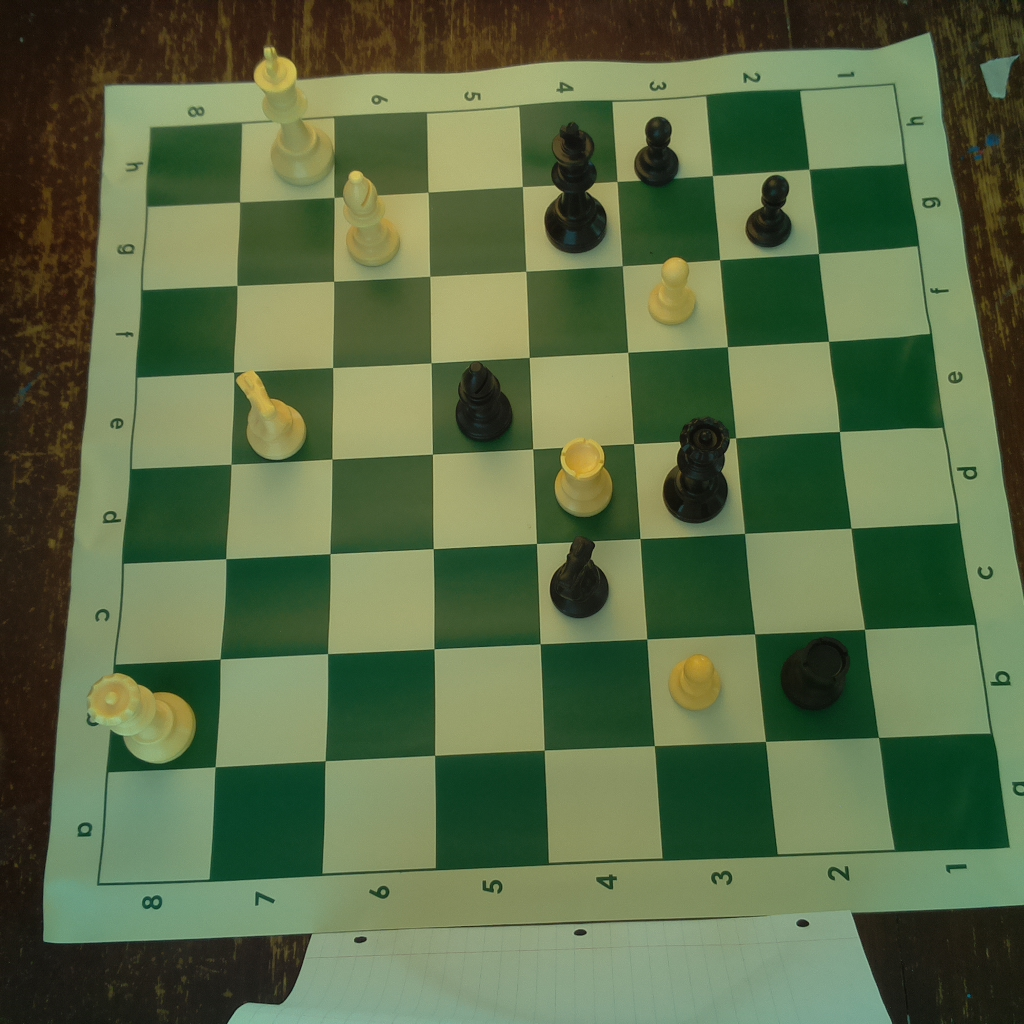black_bishop: (449, 360, 518, 444)
black_king: (541, 117, 610, 256)
black_knight: (542, 534, 614, 621)
black_pawn: (631, 112, 684, 188), (745, 170, 794, 251)
black_queen: (666, 413, 733, 526)
black_rook: (777, 628, 857, 715)
file_a: (98, 735, 1008, 884)
file_b: (108, 622, 992, 771)
file_c: (115, 521, 977, 667)
file_d: (124, 426, 957, 562)
file_e: (132, 334, 942, 470)
file_f: (140, 245, 934, 379)
file_g: (141, 164, 921, 290)
file_h: (146, 87, 906, 209)
outline: (98, 82, 1011, 884)
rank_1: (801, 84, 1010, 854)
rank_2: (707, 91, 894, 852)
rank_3: (612, 93, 780, 858)
rank_4: (520, 99, 667, 866)
rank_5: (425, 108, 550, 870)
rank_6: (319, 112, 437, 869)
rank_7: (210, 117, 334, 882)
rank_8: (98, 122, 241, 890)
white_bishop: (334, 169, 405, 267)
white_king: (251, 43, 337, 192)
white_knight: (231, 366, 311, 467)
white_pawn: (666, 648, 727, 718), (646, 258, 701, 328)
white_queen: (80, 667, 202, 770)
white_rook: (555, 434, 618, 519)
